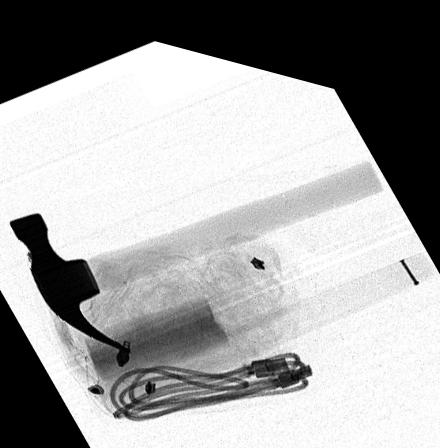Hammer: (7, 137, 383, 344)
